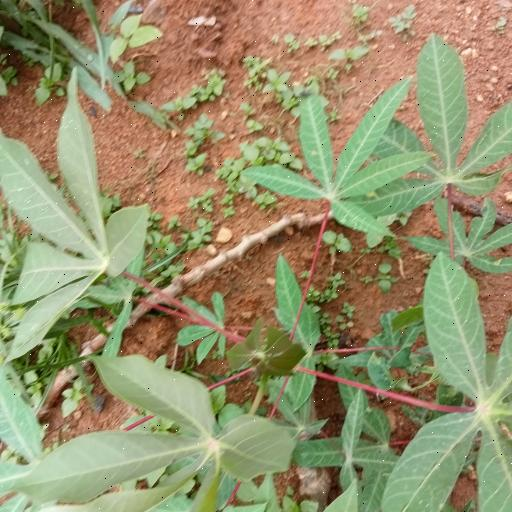Cassava_Mosaic: (43, 346, 291, 512), (258, 84, 445, 245)
